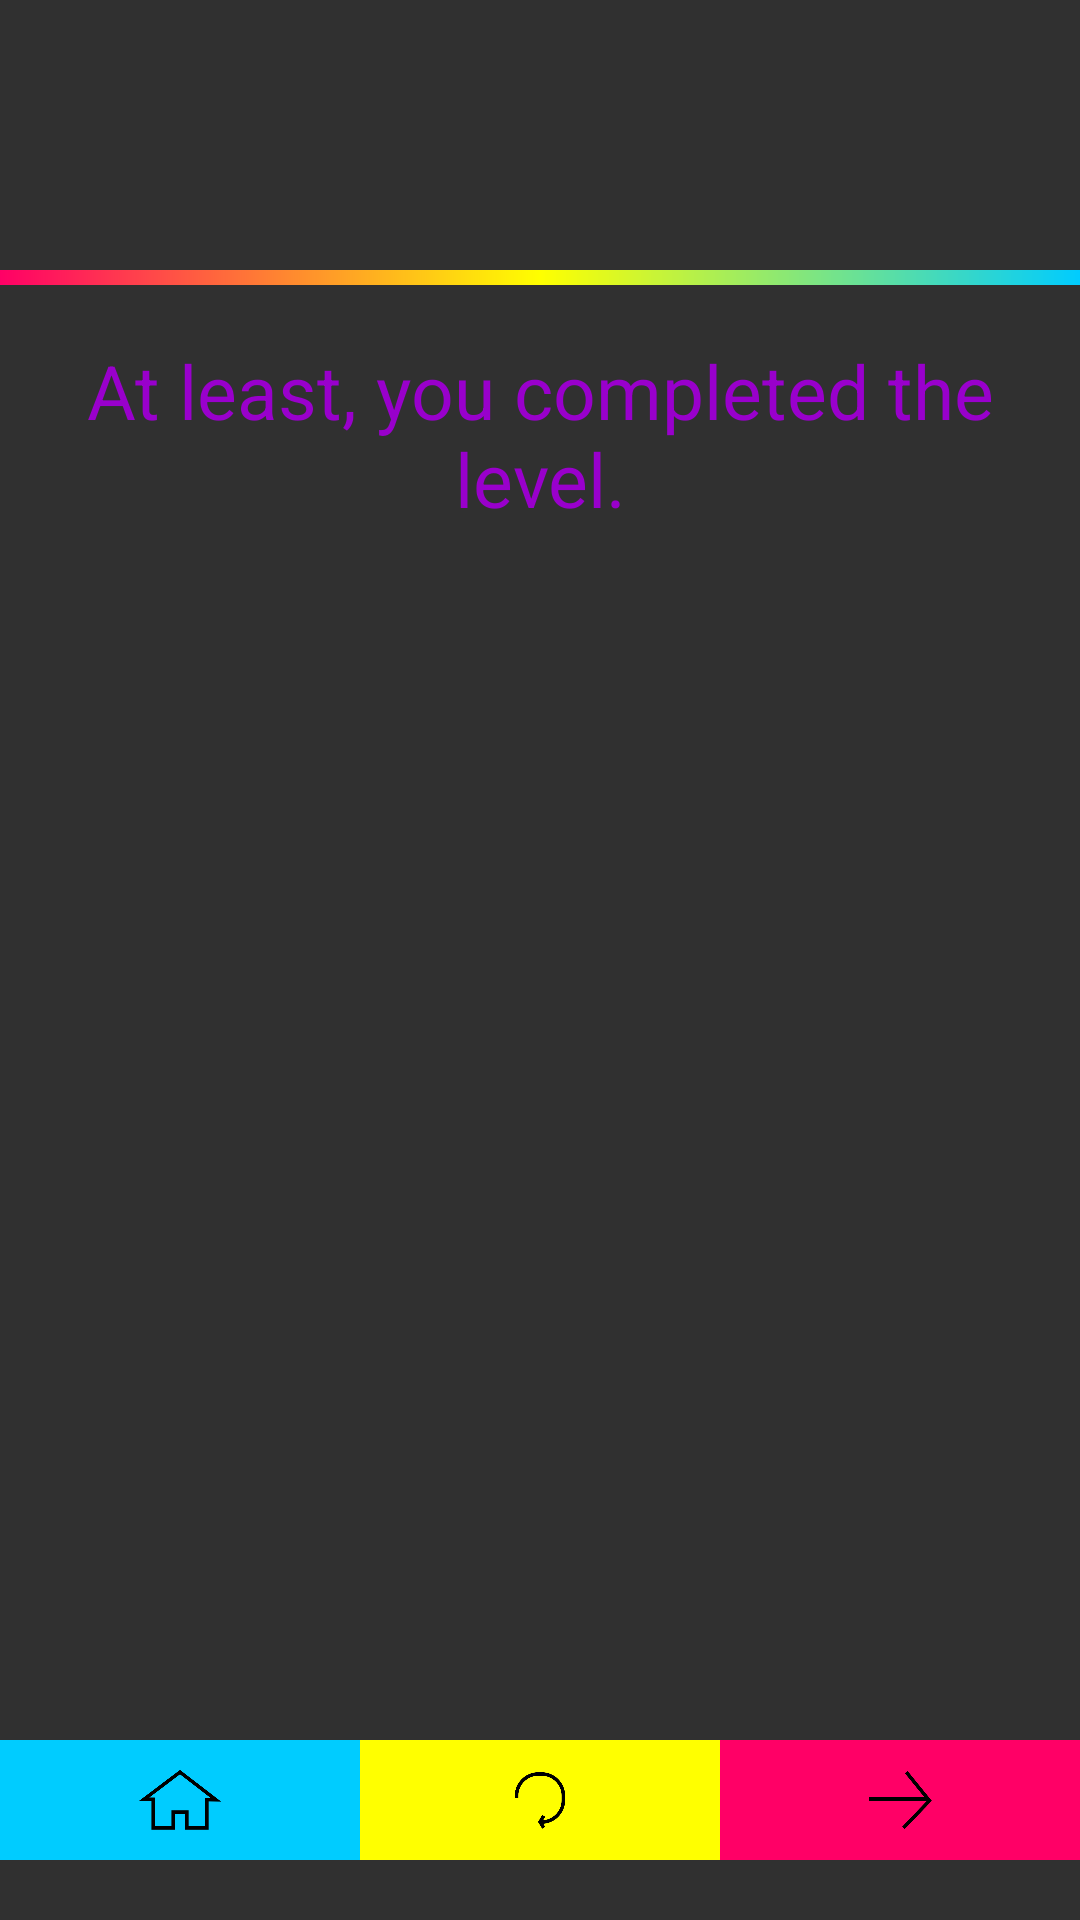

Screen size 1080×1920. Icon name, then its center in pixels as (x=x, y=y):
home: (x=180, y=1800)
next: (x=900, y=1800)
refresh: (x=540, y=1800)
